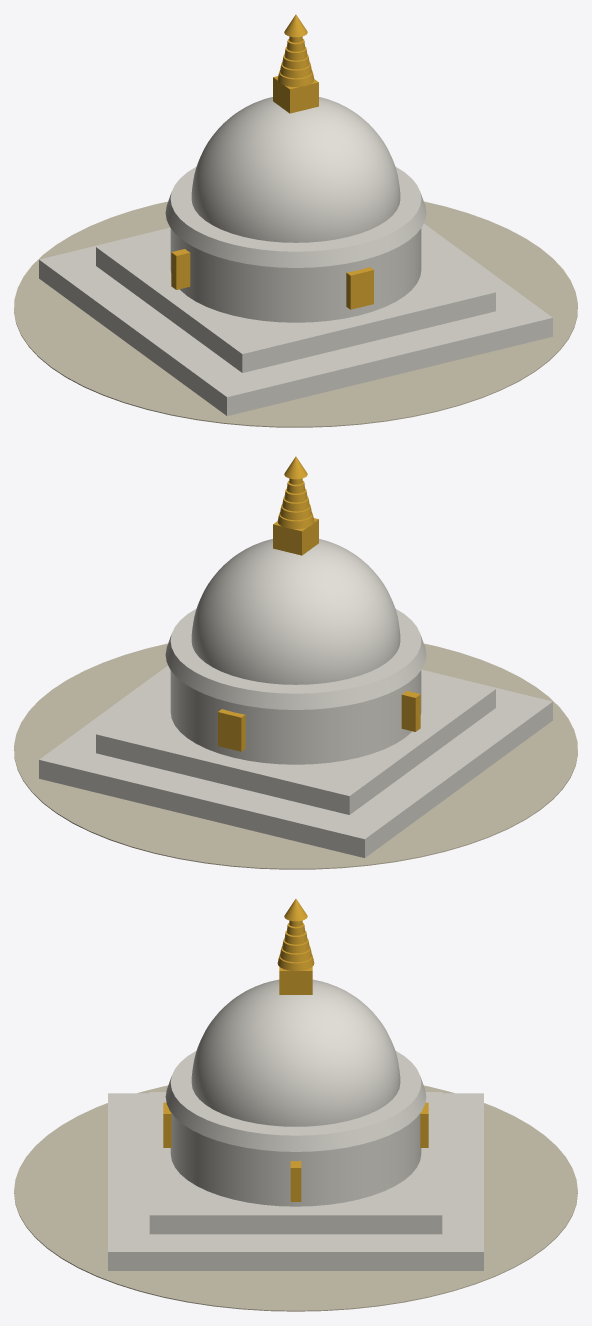
The model's file is peace-pagoda-pokhara.gltf.
3 renders of one model, top to bottom at view 1: azimuth 30°, elevation 25°; view 2: azimuth 150°, elevation 25°; view 3: azimuth 270°, elevation 25°, orthographic.
Visible parts, largest first — view 1: ground, object 1, dome, object 2, object 3, object 8, harmika, object 4, object 7; view 2: ground, object 1, dome, object 2, object 3, object 8, harmika, object 6, object 7; view 3: ground, object 1, dome, object 2, object 3, object 8, harmika.
Part boxes in pixels (x1=…): ground: x1=14, y1=201, x2=577, y2=427; object 1: x1=39, y1=223, x2=552, y2=415; dome: x1=191, y1=97, x2=400, y2=242; object 2: x1=96, y1=229, x2=495, y2=372; object 3: x1=170, y1=228, x2=421, y2=322; object 8: x1=165, y1=166, x2=426, y2=267; harmika: x1=273, y1=76, x2=318, y2=113; object 4: x1=346, y1=267, x2=373, y2=309; object 7: x1=171, y1=249, x2=190, y2=289; ground: x1=14, y1=643, x2=577, y2=869; object 1: x1=39, y1=665, x2=552, y2=857; dome: x1=191, y1=539, x2=400, y2=684; object 2: x1=96, y1=671, x2=495, y2=814; object 3: x1=170, y1=670, x2=421, y2=764; object 8: x1=165, y1=608, x2=426, y2=709; harmika: x1=273, y1=518, x2=318, y2=555; object 6: x1=218, y1=709, x2=245, y2=751; object 7: x1=401, y1=691, x2=420, y2=731; ground: x1=14, y1=1085, x2=577, y2=1311; object 1: x1=108, y1=1093, x2=483, y2=1270; dome: x1=191, y1=979, x2=400, y2=1126; object 2: x1=149, y1=1092, x2=442, y2=1234; object 3: x1=170, y1=1113, x2=421, y2=1206; object 8: x1=165, y1=1050, x2=426, y2=1151; harmika: x1=279, y1=967, x2=312, y2=994.
Bounding box in the file's own units: 54 × 31.08 × 54.
